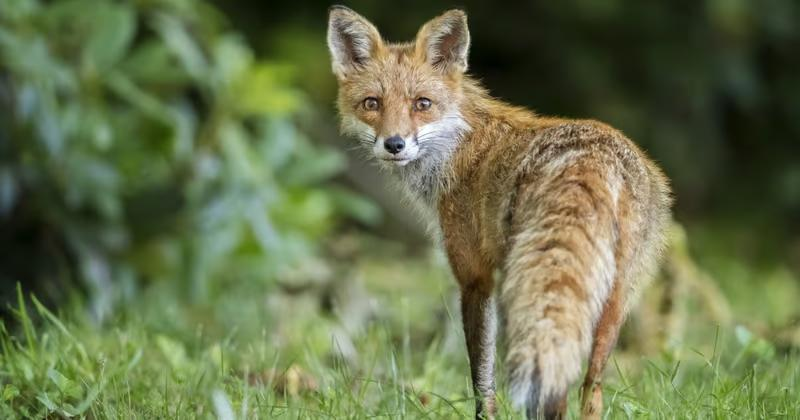fox: (325, 2, 674, 413)
